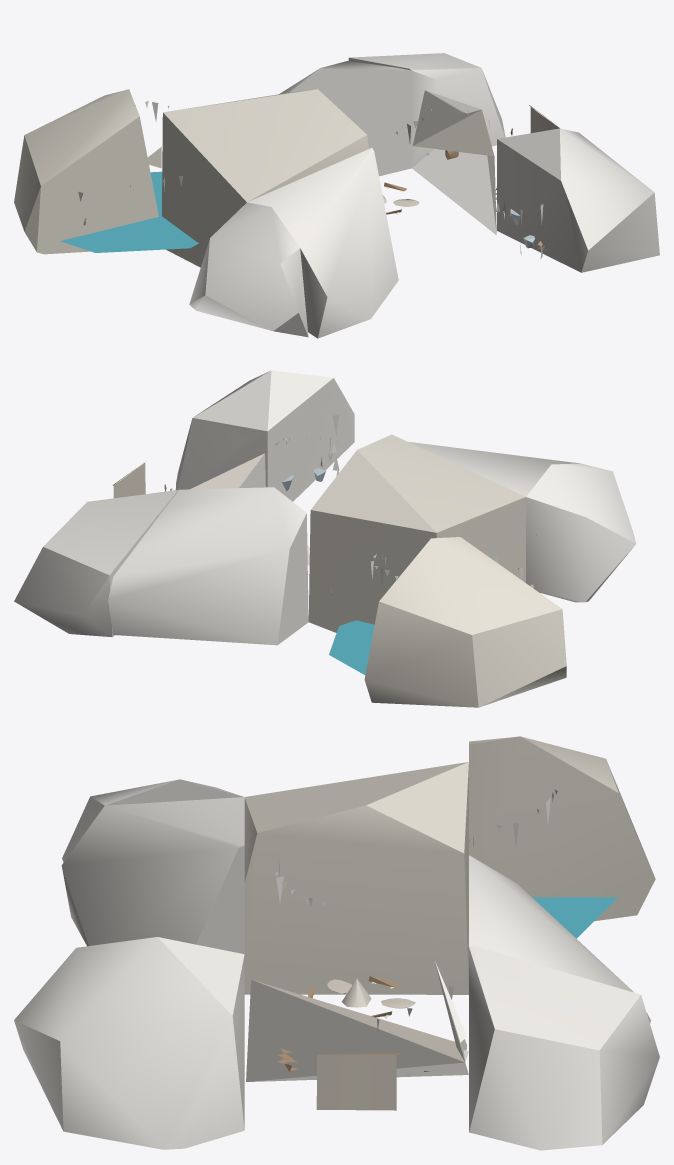
File: Cave_LOD0.dae
3 views of the same model, one above another, from view 1: azimuth 30°, elevation 25°; view 2: azimuth 150°, elevation 25°; view 3: azimuth 270°, elevation 25° (orthographic). The views are drawn at different scales.
Parts seen in each view (by area): view 1: Cave_Rock_11_LOD0, Cave_Rock_30_LOD0, Cave_Rock_02_LOD0, Cave_Rock_10_LOD0, Cave_Rock_00_LOD0, Cave_Rock_31_LOD0, Cave_Rock_22_LOD0, Cave_Rock_32_LOD0, Cave_Lake_LOD0; view 2: Cave_Rock_22_LOD0, Cave_Rock_02_LOD0, Cave_Rock_11_LOD0, Cave_Rock_30_LOD0, Cave_Rock_00_LOD0, Cave_Rock_32_LOD0, Cave_Rock_10_LOD0, Cave_Lake_LOD0, Cave_Rock_31_LOD0, Cave_Curtain_LOD0; view 3: Cave_Rock_11_LOD0, Cave_Rock_30_LOD0, Cave_Rock_32_LOD0, Cave_Rock_10_LOD0, Cave_Rock_02_LOD0, Cave_Rock_31_LOD0, Cave_Rock_22_LOD0, Cave_Curtain_LOD0, Cave_Rock_00_LOD0, Cave_Lake_LOD0.
Part boxes in pixels (x1,y1,x2,y2): Cave_Rock_11_LOD0: [162, 89, 368, 267]; Cave_Rock_30_LOD0: [497, 128, 659, 272]; Cave_Rock_02_LOD0: [14, 89, 158, 254]; Cave_Rock_10_LOD0: [247, 148, 398, 338]; Cave_Rock_00_LOD0: [189, 202, 308, 337]; Cave_Rock_31_LOD0: [412, 90, 496, 234]; Cave_Rock_22_LOD0: [279, 61, 411, 176]; Cave_Rock_32_LOD0: [348, 53, 505, 167]; Cave_Lake_LOD0: [60, 171, 198, 252]; Cave_Rock_22_LOD0: [108, 487, 308, 645]; Cave_Rock_02_LOD0: [364, 537, 566, 707]; Cave_Rock_11_LOD0: [308, 434, 525, 632]; Cave_Rock_30_LOD0: [175, 370, 354, 501]; Cave_Rock_00_LOD0: [526, 463, 636, 602]; Cave_Rock_32_LOD0: [14, 490, 178, 637]; Cave_Rock_10_LOD0: [408, 441, 580, 496]; Cave_Lake_LOD0: [329, 620, 374, 674]; Cave_Rock_31_LOD0: [170, 453, 265, 490]; Cave_Curtain_LOD0: [112, 462, 145, 498]; Cave_Rock_11_LOD0: [244, 762, 468, 994]; Cave_Rock_30_LOD0: [14, 937, 244, 1149]; Cave_Rock_32_LOD0: [469, 946, 659, 1150]; Cave_Rock_10_LOD0: [61, 797, 244, 954]; Cave_Rock_02_LOD0: [469, 736, 655, 921]; Cave_Rock_31_LOD0: [246, 960, 468, 1081]; Cave_Rock_22_LOD0: [469, 855, 650, 1023]; Cave_Curtain_LOD0: [316, 1053, 399, 1110]; Cave_Rock_00_LOD0: [62, 779, 243, 862]; Cave_Lake_LOD0: [532, 897, 617, 938].
Bounding box in the file's own units: 45.89 × 37.43 × 14.53.
